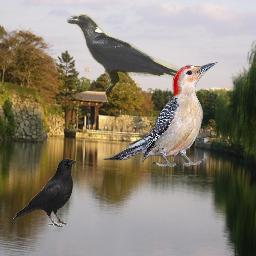Crow: (65, 14, 183, 94), (13, 157, 78, 228)
Woodpecker: (102, 60, 220, 168)
